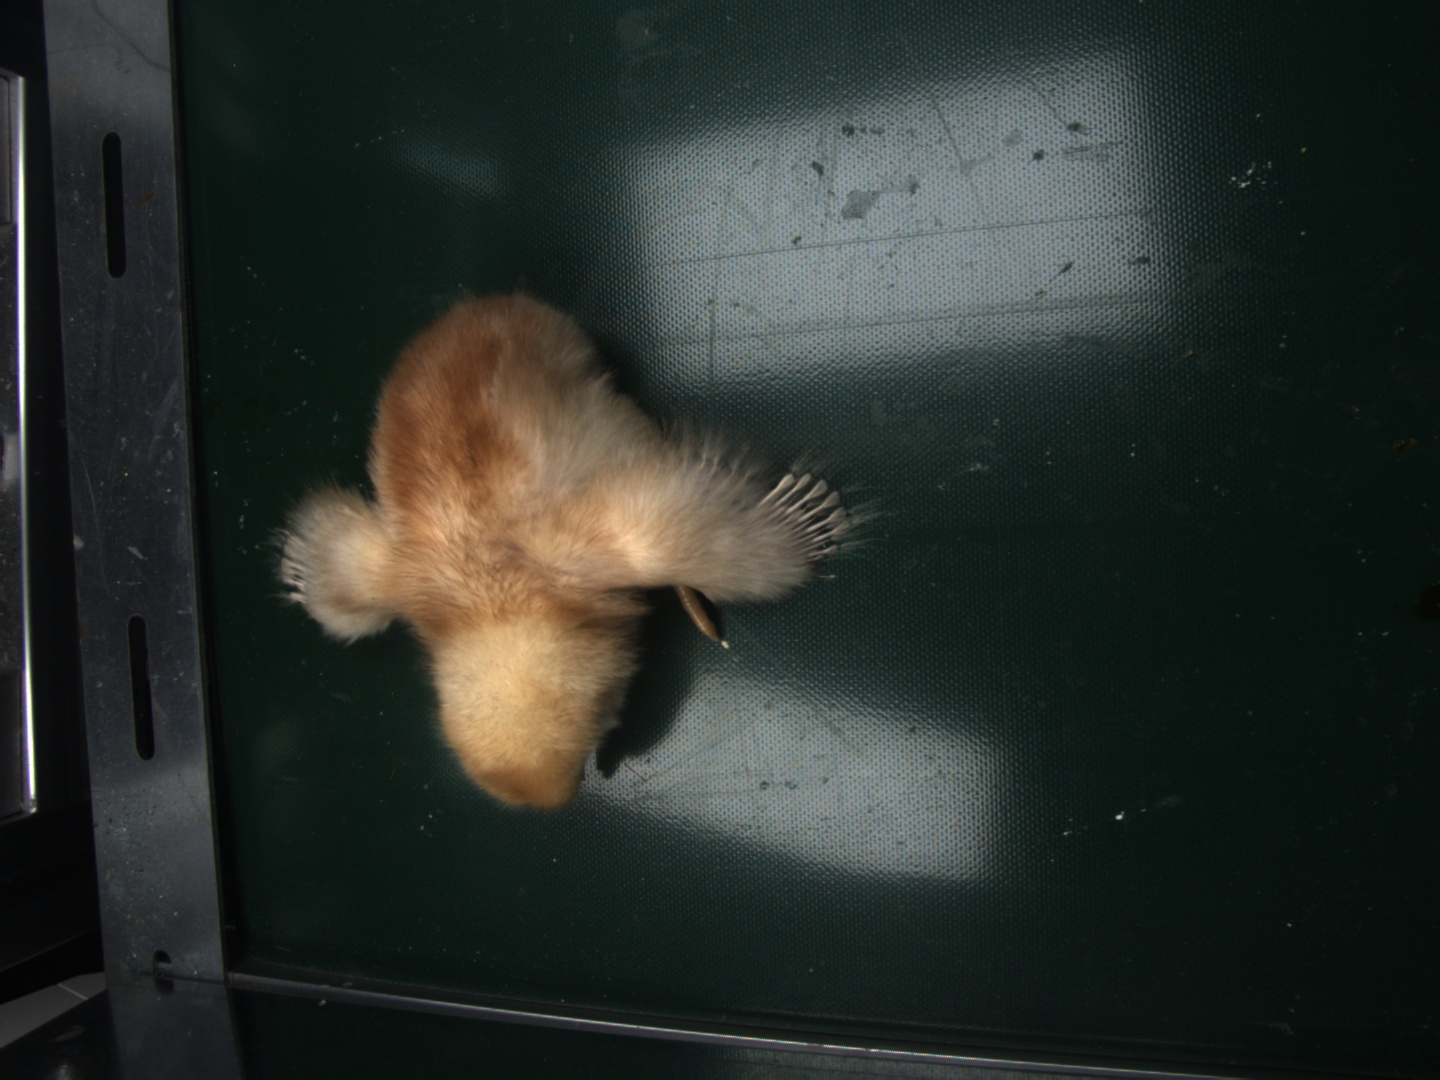female: (764, 473, 853, 560)
